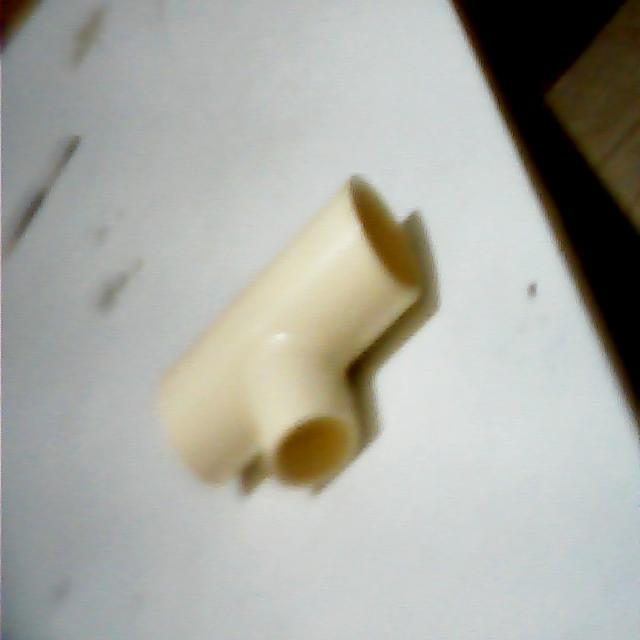T Joint: (158, 177, 421, 486)
